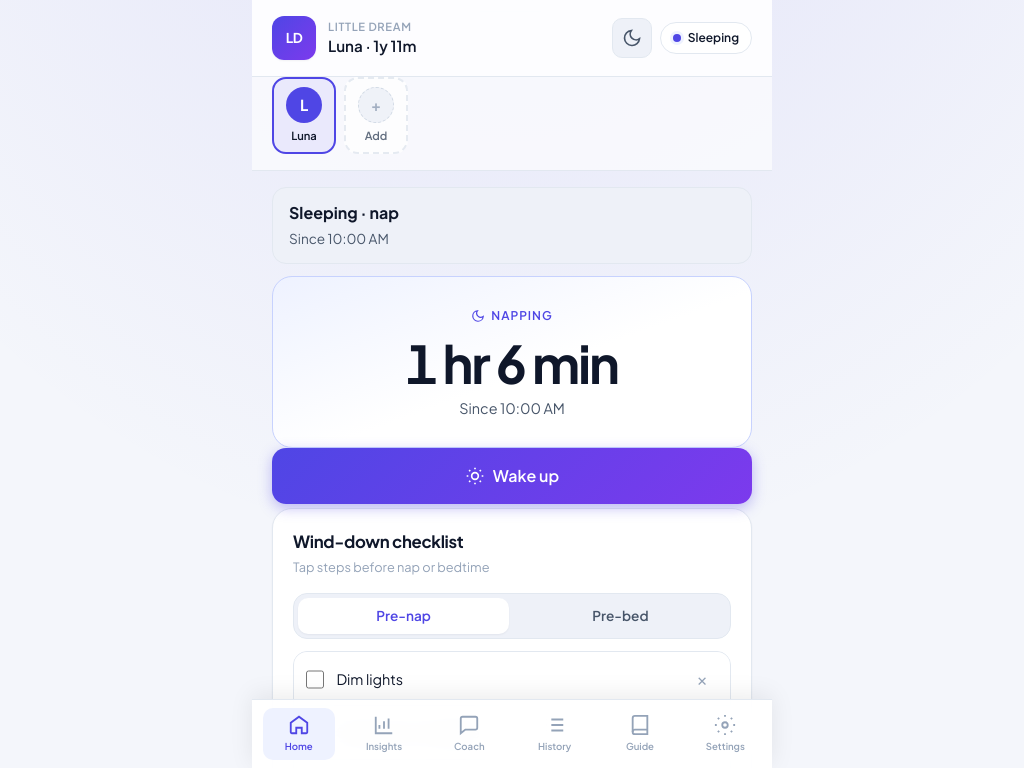
Test case: App › shows wake prompt for open nap and completes wake flow
This screenshot has width=1024, height=768.
What coordinates should you click on to do the following:
click the button with aria-label "mark baby awake"
I would click on:
 (512, 476)
Its box is [272,448,752,504].
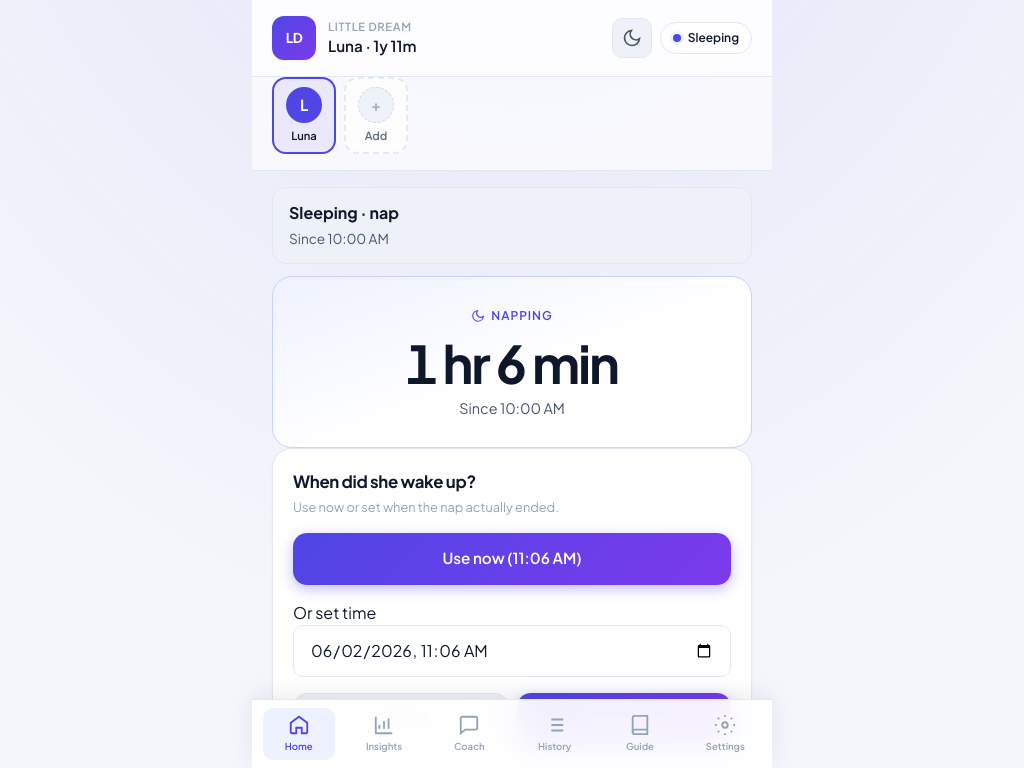
expect the heading "When did she wake up?" is shown: met, box [293,471,476,492]
What coordinates should you click on to do the following:
click the button "Use now (11:06 AM)"
I would click on:
 (512, 559)
Its box is [293,533,731,584].
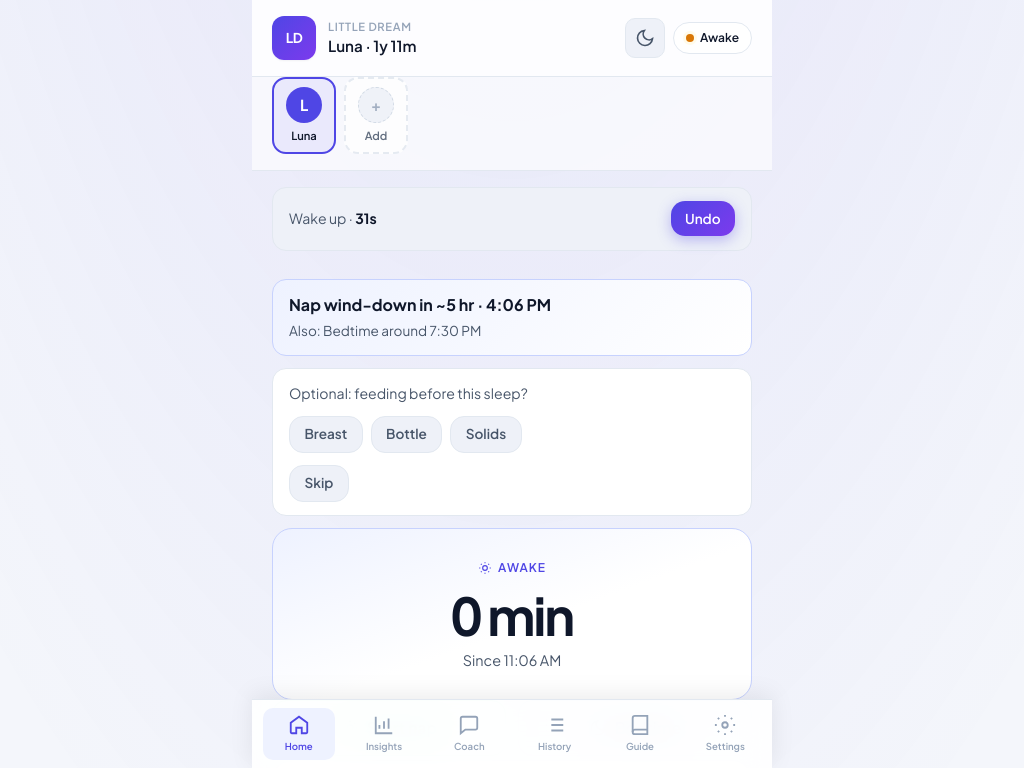
expect the text "Optional: feeding before this sleep?" is shown: met, box [289,384,528,402]
